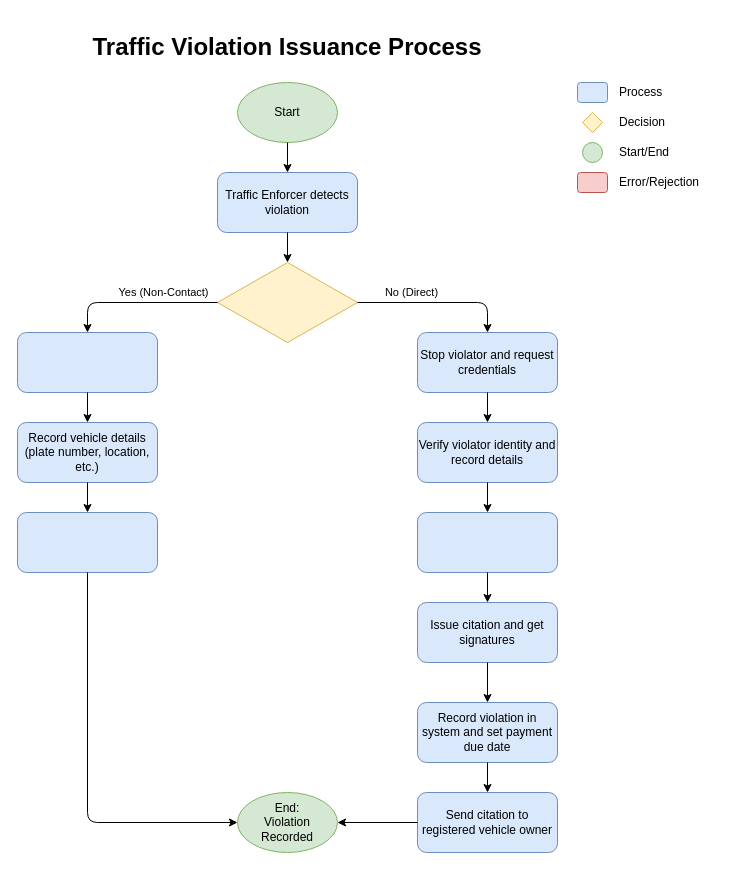
The diagram is 735 pixels wide and 870 high, and some of its shapes have lost their labels. The shapes that lost their labels are listed below. From the top down, each one's centre as x and y in pixels, then its label:
At (287,302): "Is this an NCAP violation?".
At (87,362): "Capture vehicle photo with violation".
At (87,542): "Upload to system".
At (487,542): "Select violation type(s) and calculate fine".
